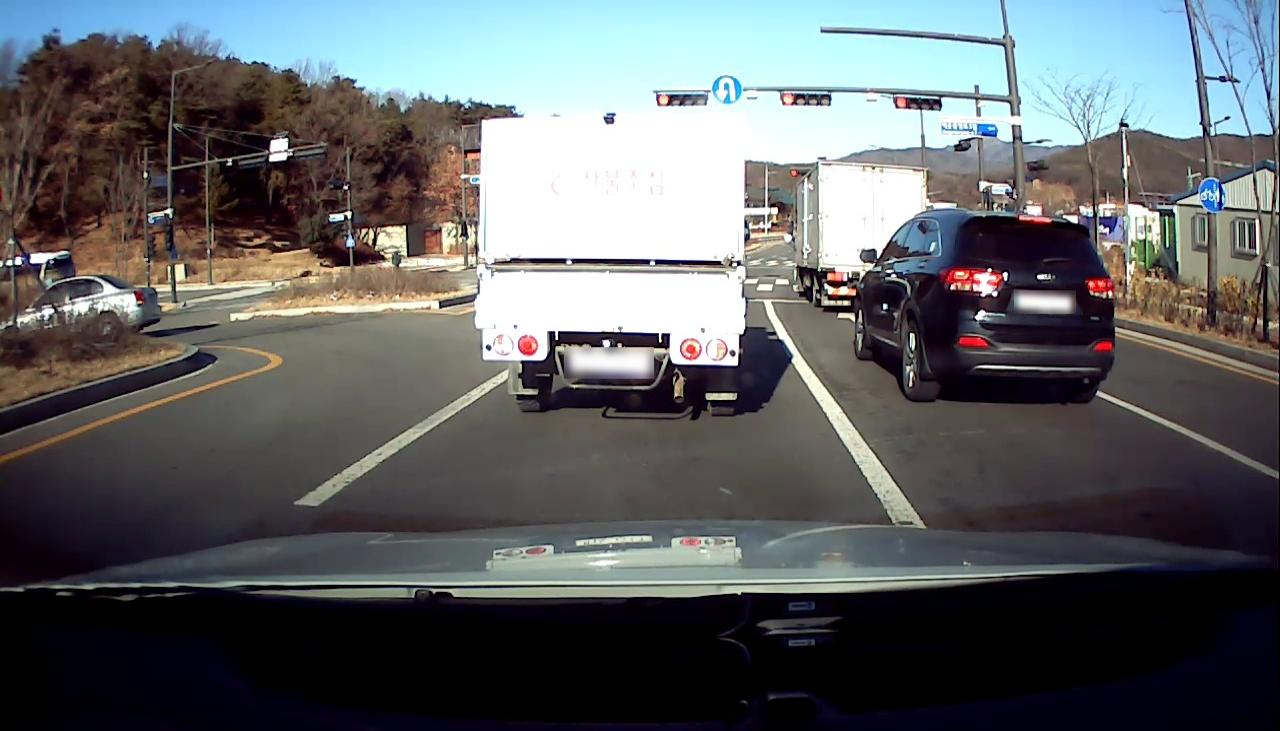Red Light: (780, 91, 795, 106), (894, 95, 908, 109), (656, 94, 670, 106)
